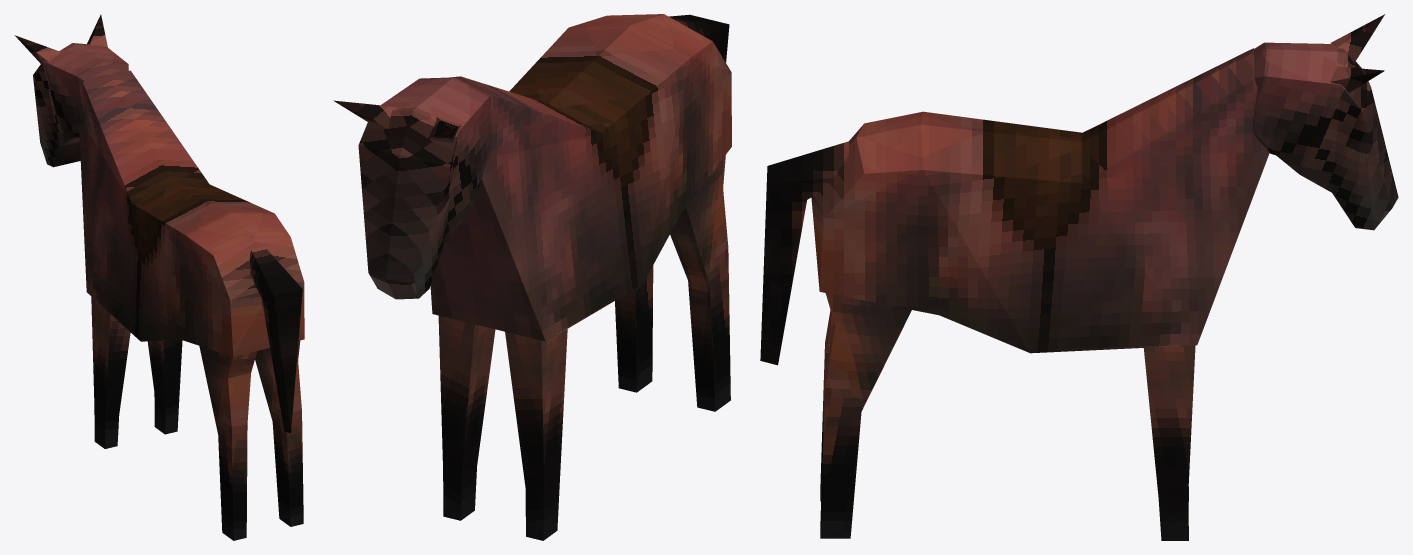
File: Horse_Horse_Bay_Saddled.glb
3 views of the same model, side by side, from view 1: azimuth 30°, elevation 25°; view 2: azimuth 150°, elevation 25°; view 3: azimuth 270°, elevation 25° (orthographic). The views are drawn at different scales.
Visible parts, largest first — view 1: Body, Head, Leg3, Leg4, Leg1, Leg2; view 2: Body, Head, Leg3, Leg1, Leg2, Leg4; view 3: Body, Head, Leg4, Leg2.
Boxes of the visible parts, x1,y1,x2,y2 form: Body: (79,69,304,432); Head: (14,14,128,167); Leg3: (199,346,257,540); Leg4: (255,340,303,526); Leg1: (91,297,130,448); Leg2: (147,339,182,434); Body: (430,14,731,341); Head: (333,77,491,299); Leg3: (670,155,730,411); Leg1: (505,329,567,540); Leg2: (438,315,495,520); Leg4: (615,265,653,392); Body: (760,48,1269,365); Head: (1252,14,1398,230); Leg4: (820,293,911,538); Leg2: (1143,345,1195,540).
Bounding box in the file's own units: 0.4986 × 1.71 × 2.08.
1 material, 1 textured.
